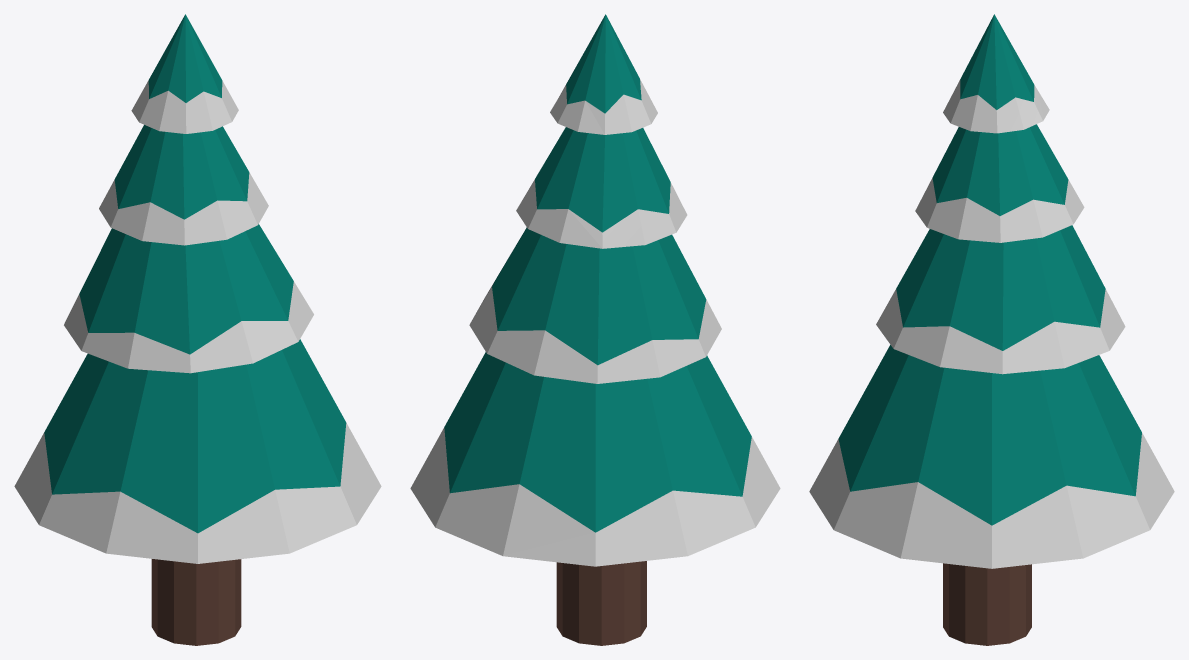
The picture shows the model from 3 angles, left to right: view 1: azimuth 30°, elevation 25°; view 2: azimuth 150°, elevation 25°; view 3: azimuth 270°, elevation 25°; orthographic projection.
Visible parts, largest first — view 1: node_MeshObject344227712-PolyPaper11; view 2: node_MeshObject344227712-PolyPaper11; view 3: node_MeshObject344227712-PolyPaper11.
Part boxes in pixels (<box>): node_MeshObject344227712-PolyPaper11: <box>14,14,381,645</box>; node_MeshObject344227712-PolyPaper11: <box>410,14,780,645</box>; node_MeshObject344227712-PolyPaper11: <box>809,14,1174,645</box>.
Size of the model in its own units: 0.41 by 0.7544 by 0.41.
